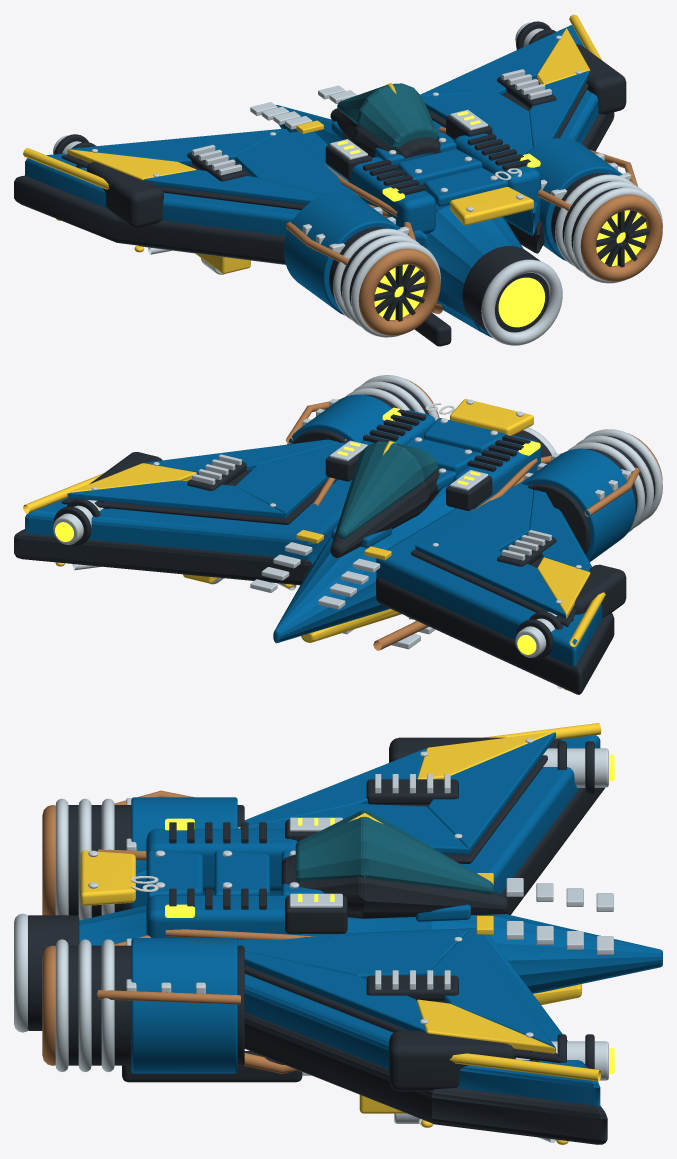
The picture shows the model from 3 angles, top to bottom: view 1: azimuth 30°, elevation 25°; view 2: azimuth 150°, elevation 25°; view 3: azimuth 270°, elevation 25°; orthographic projection. The views are drawn at different scales.
Parts seen in each view (by area): view 1: SolidHull_09; view 2: SolidHull_09; view 3: SolidHull_09.
Part boxes in pixels (bbox=[...]): SolidHull_09: bbox=[14, 14, 662, 346]; SolidHull_09: bbox=[14, 375, 662, 694]; SolidHull_09: bbox=[14, 723, 662, 1144].
Bounding box in the file's own units: 3.68 × 1.15 × 2.81.
